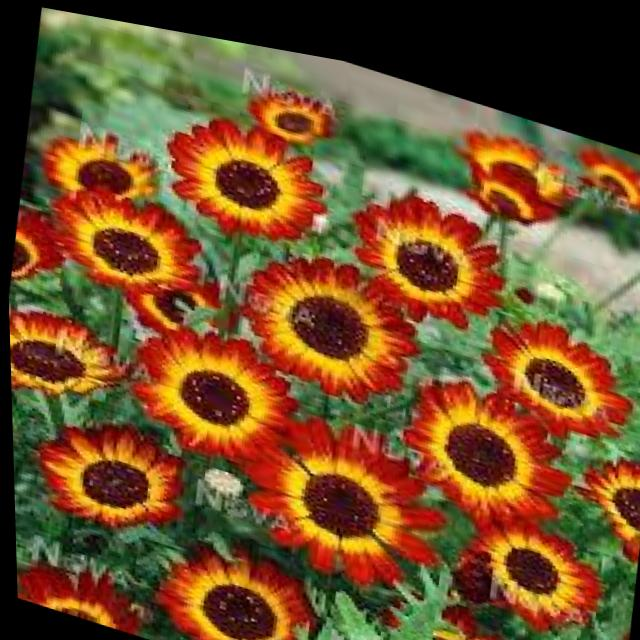Flower: (206, 363, 456, 603), (235, 217, 416, 406), (410, 350, 570, 526), (150, 100, 325, 248), (132, 304, 296, 460), (25, 403, 194, 549), (345, 163, 503, 318), (484, 281, 636, 437), (54, 172, 214, 318), (465, 483, 603, 628), (153, 527, 293, 640), (430, 102, 564, 217), (40, 114, 181, 223), (13, 541, 167, 640), (7, 289, 117, 412), (231, 65, 343, 143), (389, 589, 516, 640), (583, 434, 640, 516)
